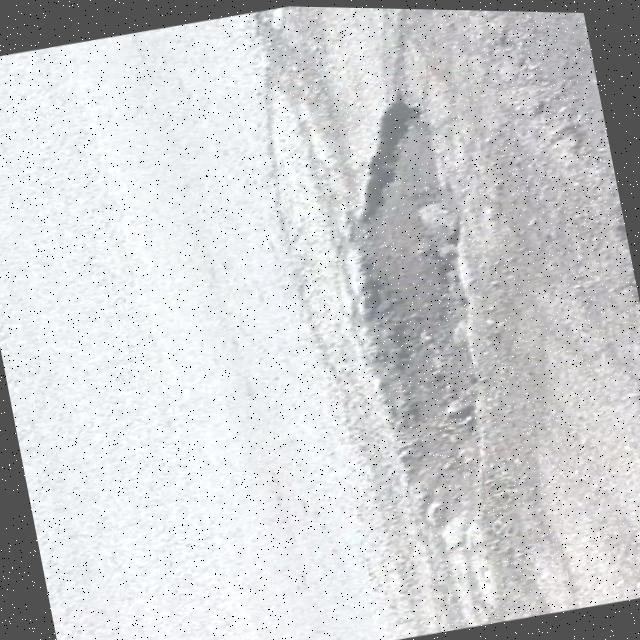Pothole: (278, 64, 574, 570)
